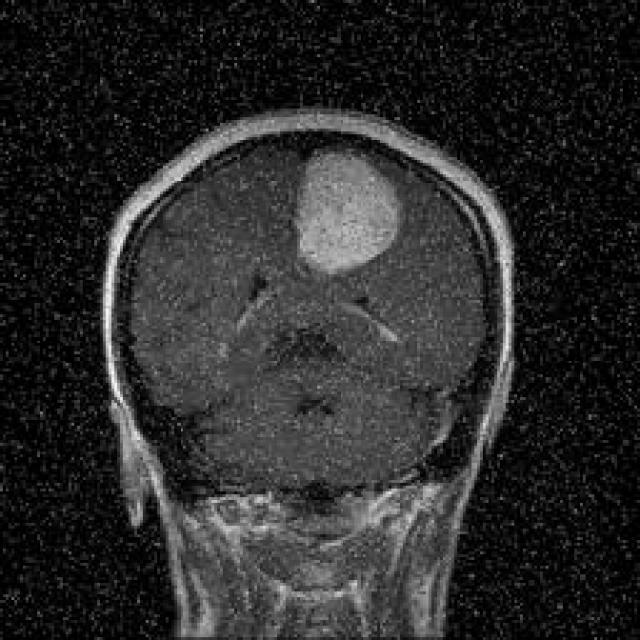meningioma_tumor: (289, 128, 414, 288)
